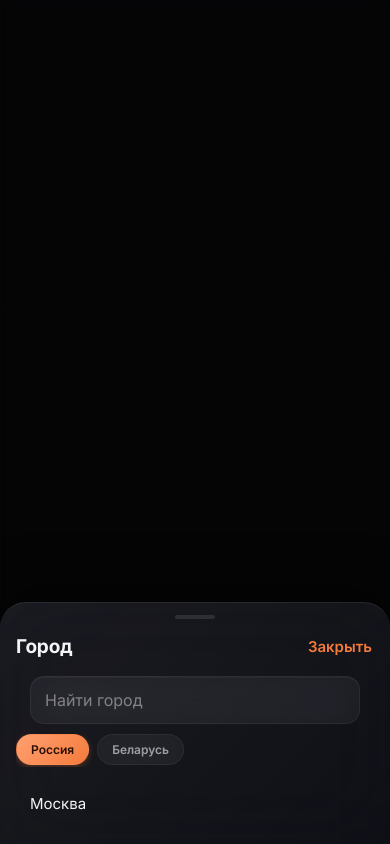
Test case: CityPicker › тёзкам показывается регион, обычным городам — нет
Expected: the button "Москва" is shown, [16,781,374,826]
Type "железногорск" into the search field labelled "Найти город".
click(195, 700); type("железногорск")  # box [30,676,360,724]
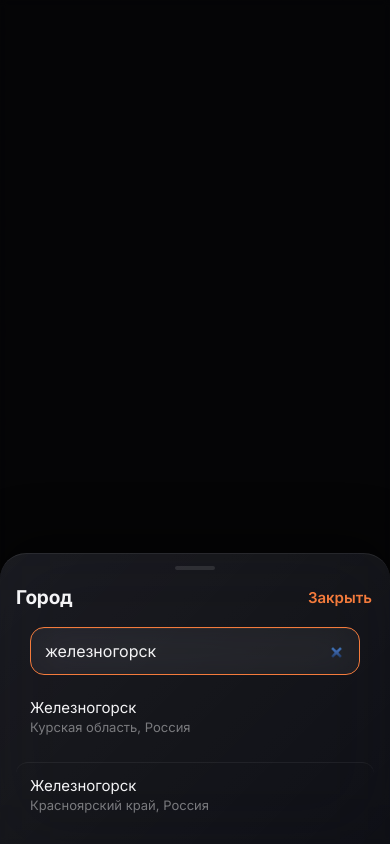
Result: the text "Курская область, Россия" is shown at [30,719,190,735]
Result: the text "Красноярский край, Россия" is shown at [30,797,209,813]
